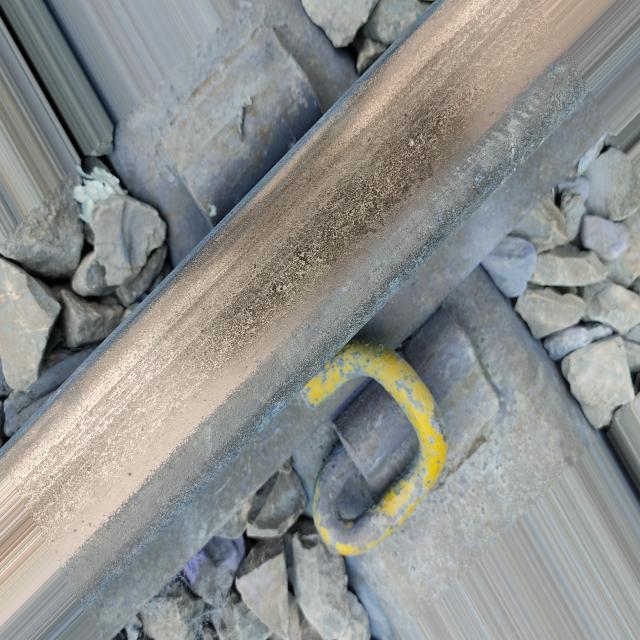Good Fasteners: (261, 262, 549, 586)
Missing Fastener: (118, 0, 356, 244)
